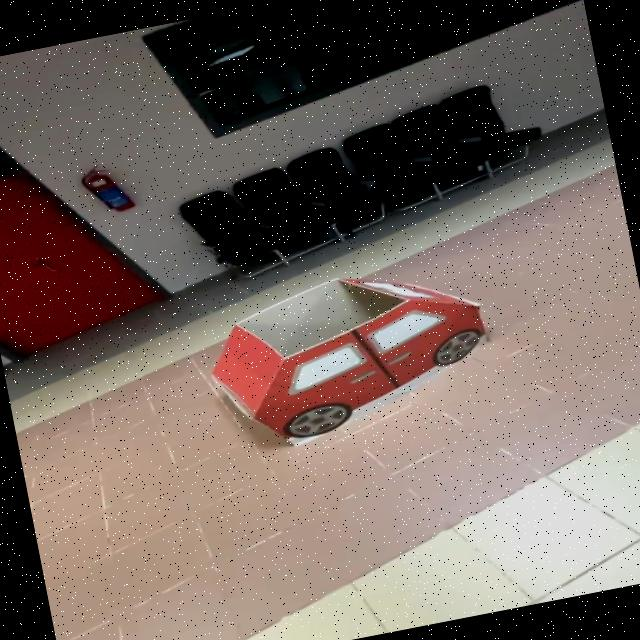red_car: (155, 232, 549, 482)
